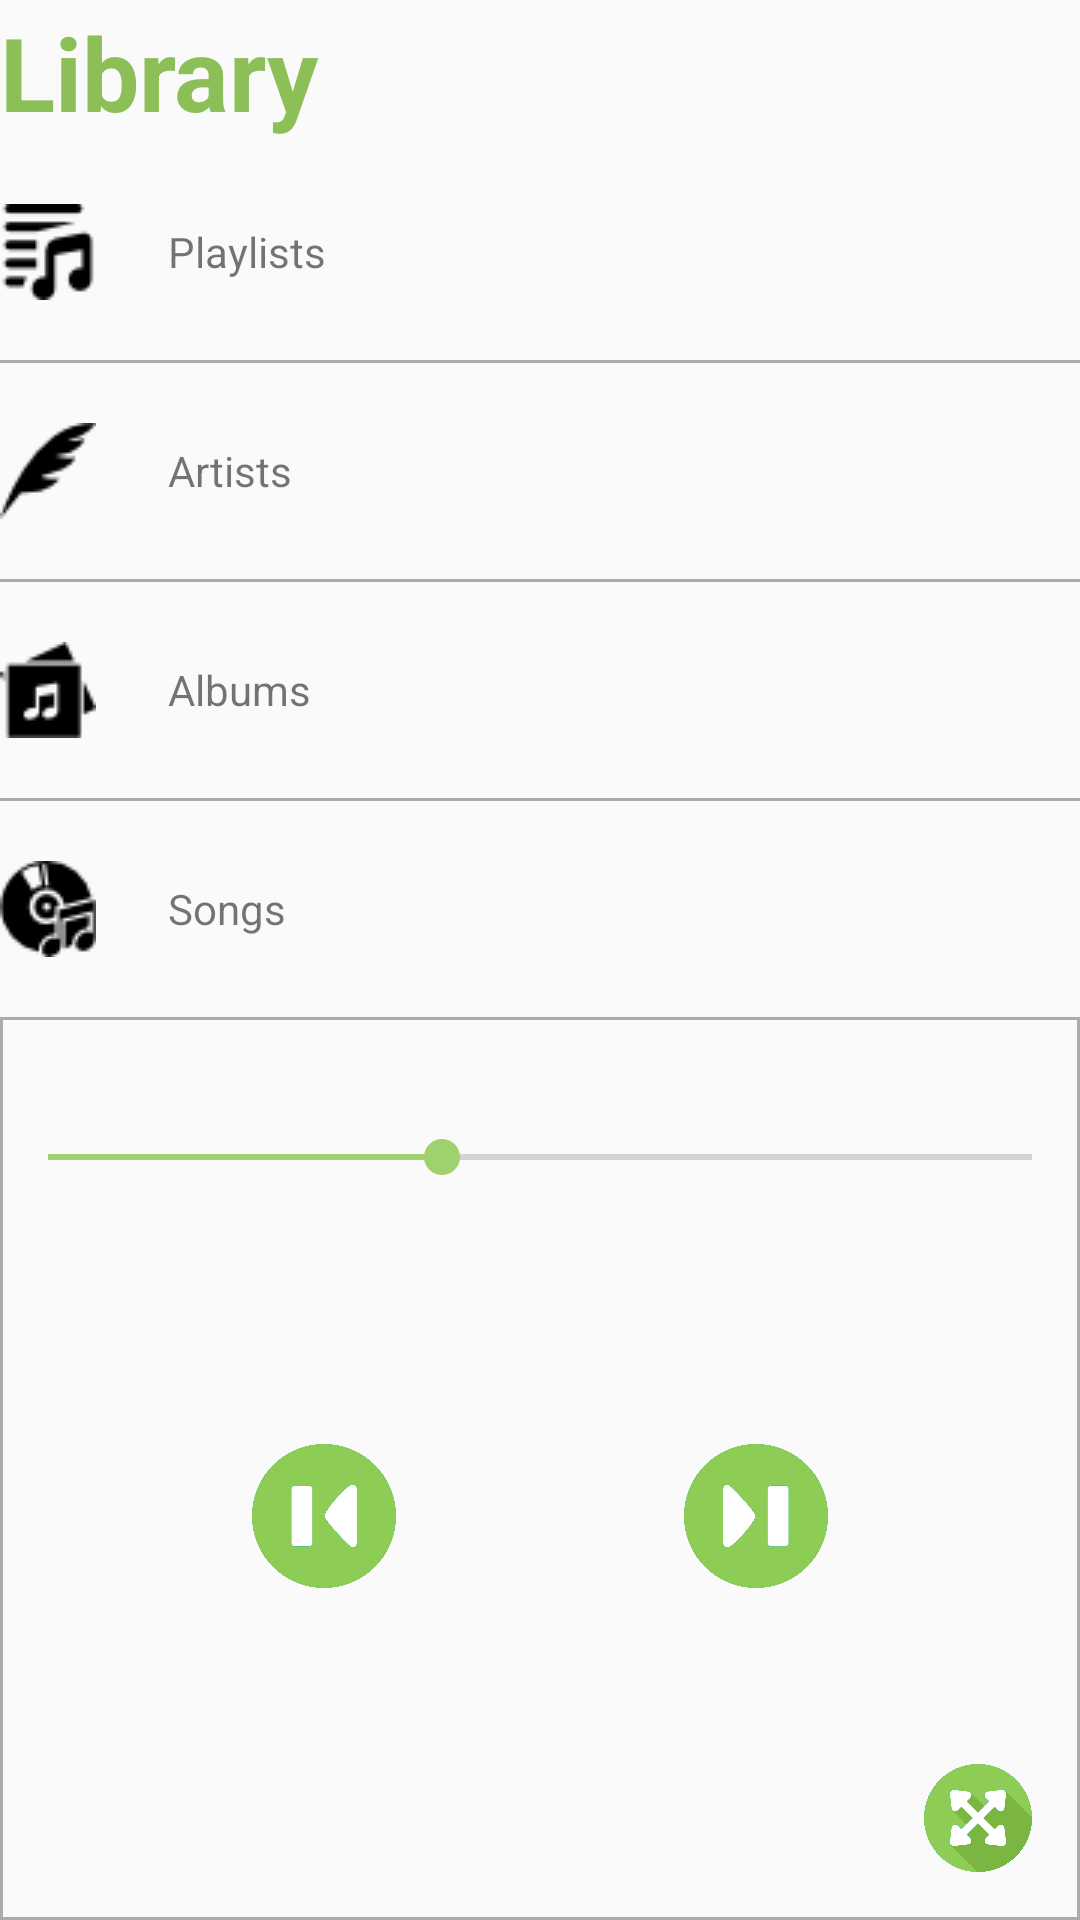

Locate icon controls on the screen. Image size 1080 × 1920, boxes as rect(x1, y1, x2, y2).
expand: rect(924, 1764, 1032, 1872)
next: rect(684, 1444, 828, 1588)
previous: rect(252, 1444, 396, 1588)
